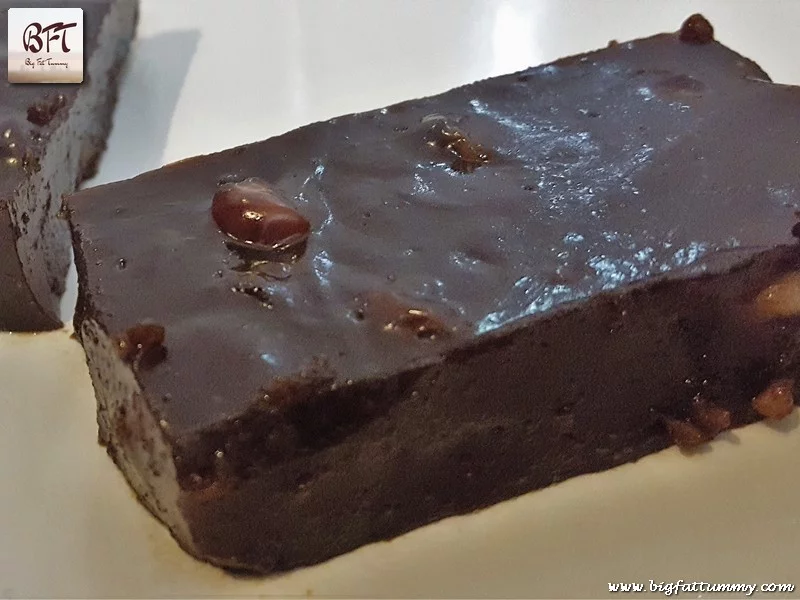dodol: (55, 17, 799, 575)
